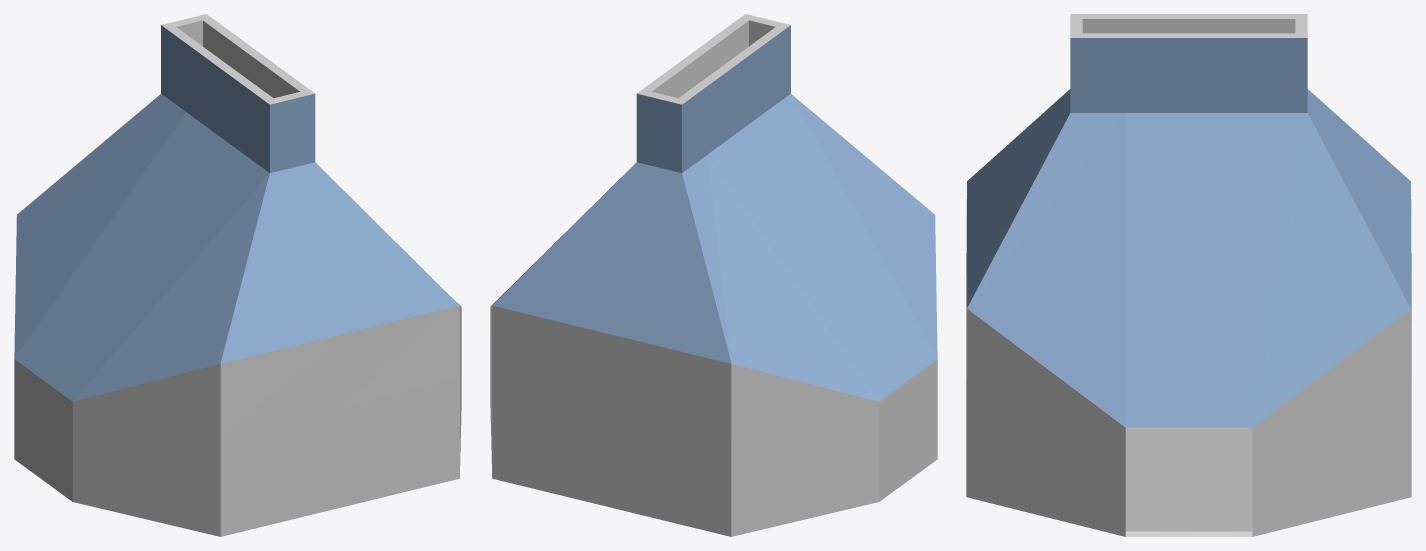
The model's file is house_5.fbx.
3 renders of one model, left to right at view 1: azimuth 30°, elevation 25°; view 2: azimuth 150°, elevation 25°; view 3: azimuth 270°, elevation 25°, orthographic. The views are drawn at different scales.
Visible parts, largest first — view 1: house_5; view 2: house_5; view 3: house_5.
Part boxes in pixels (box(x1,y1,x2,y2)): house_5: box(14, 14, 461, 536); house_5: box(490, 14, 937, 536); house_5: box(966, 14, 1411, 536).
Bounding box in the file's own units: 975 × 895 × 886.
